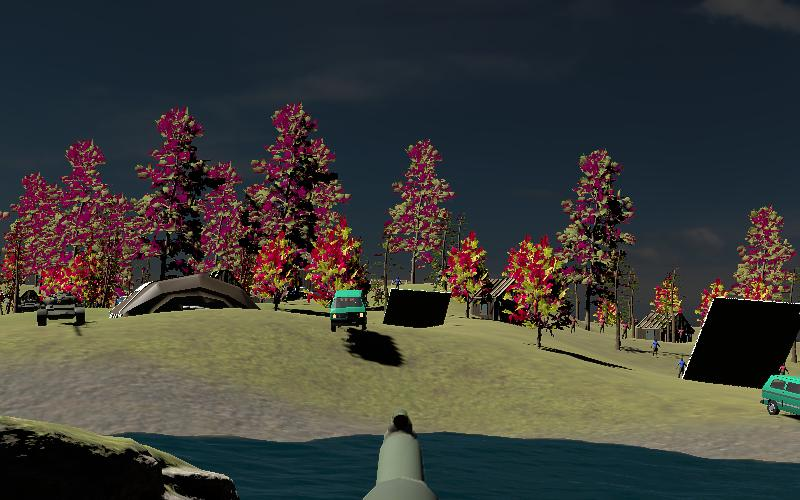Tank: (36, 289, 86, 329)
car: (761, 373, 800, 426), (329, 289, 368, 332)
